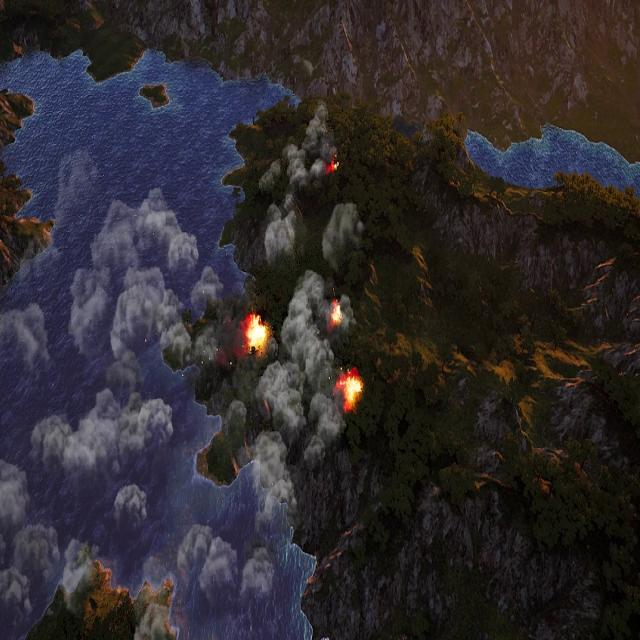fire: (339, 370, 364, 409), (245, 315, 268, 352), (331, 302, 344, 328), (326, 159, 336, 175)
smoke: (0, 189, 237, 621), (242, 104, 368, 600), (31, 386, 173, 483), (6, 300, 49, 370), (59, 535, 94, 613), (0, 457, 29, 531), (114, 484, 150, 528)
